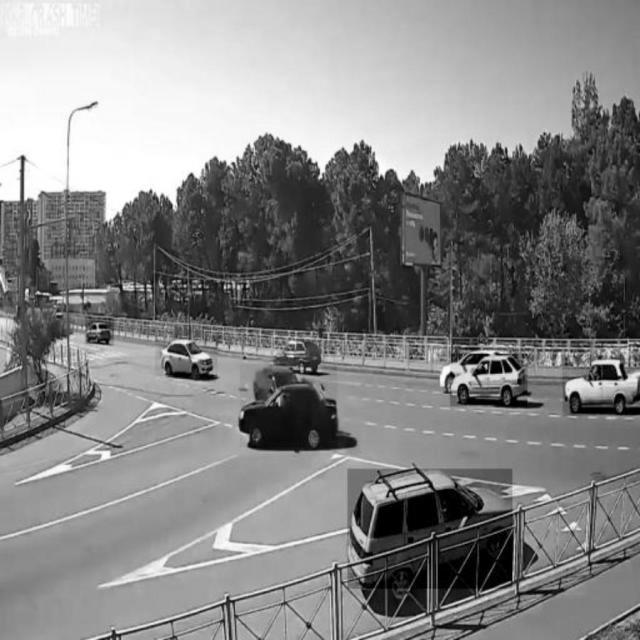accident: (240, 364, 338, 447)
vehicle: (348, 469, 513, 589), (563, 355, 640, 416), (450, 355, 527, 407), (156, 340, 218, 377), (272, 334, 322, 372), (85, 318, 113, 344)
